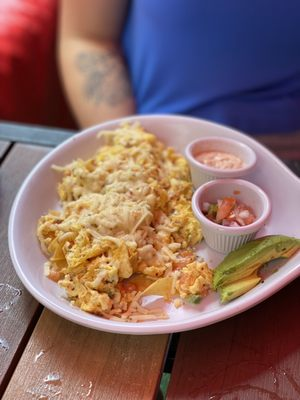curry: (211, 234, 300, 304)
sushi: (192, 178, 271, 253), (184, 136, 257, 193)
